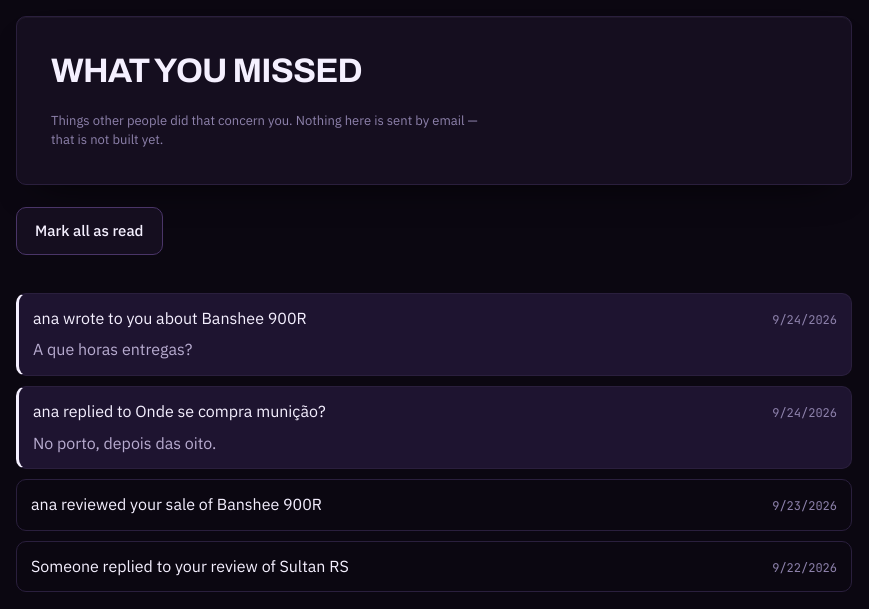
Test: a caixa de avisos › dá tudo por lido, e o número deixa de estar lá
What coordinates should you click on to do the following:
click the button "Mark all as read"
I would click on:
 (89, 231)
Its box is [16, 207, 162, 255].
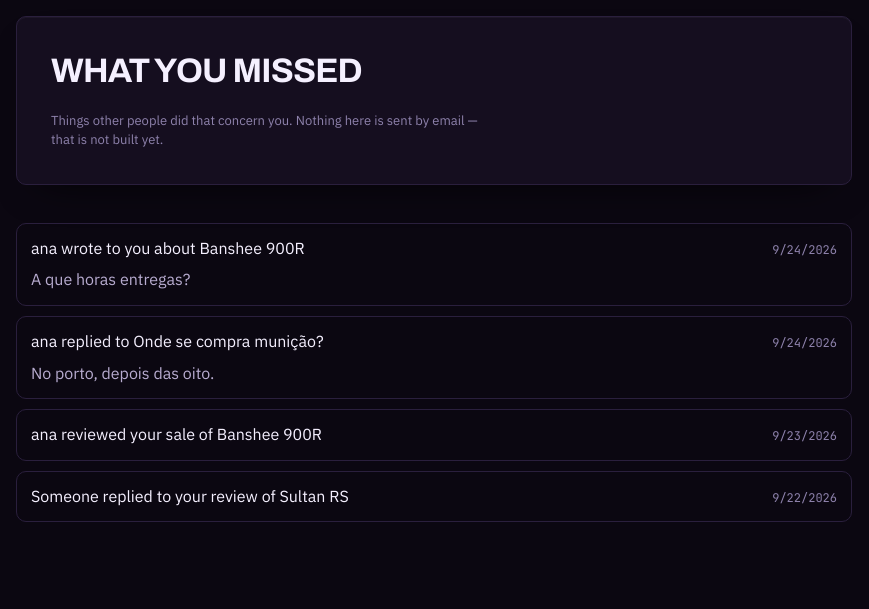
Expected: the button "Mark all as read" is gone
